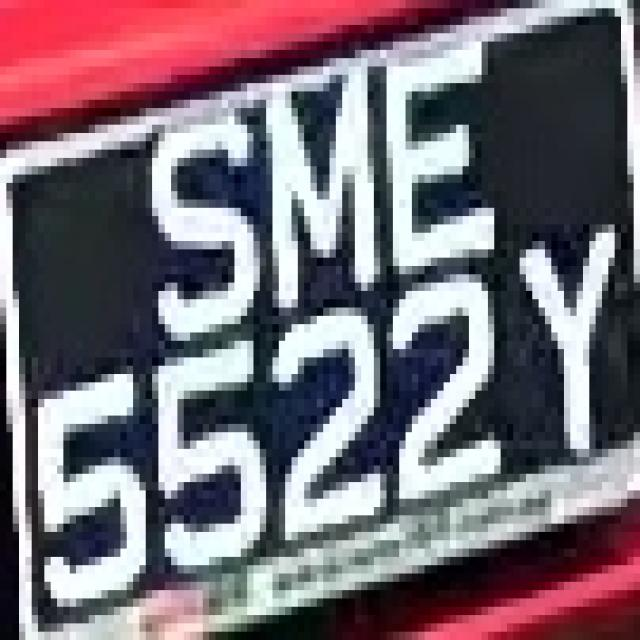2: (272, 274, 406, 549), (386, 258, 507, 515)
5: (12, 340, 164, 632), (146, 316, 279, 607)
E: (367, 0, 507, 308)
M: (247, 33, 387, 341)
S: (114, 100, 254, 349)
Y: (494, 200, 621, 466)
